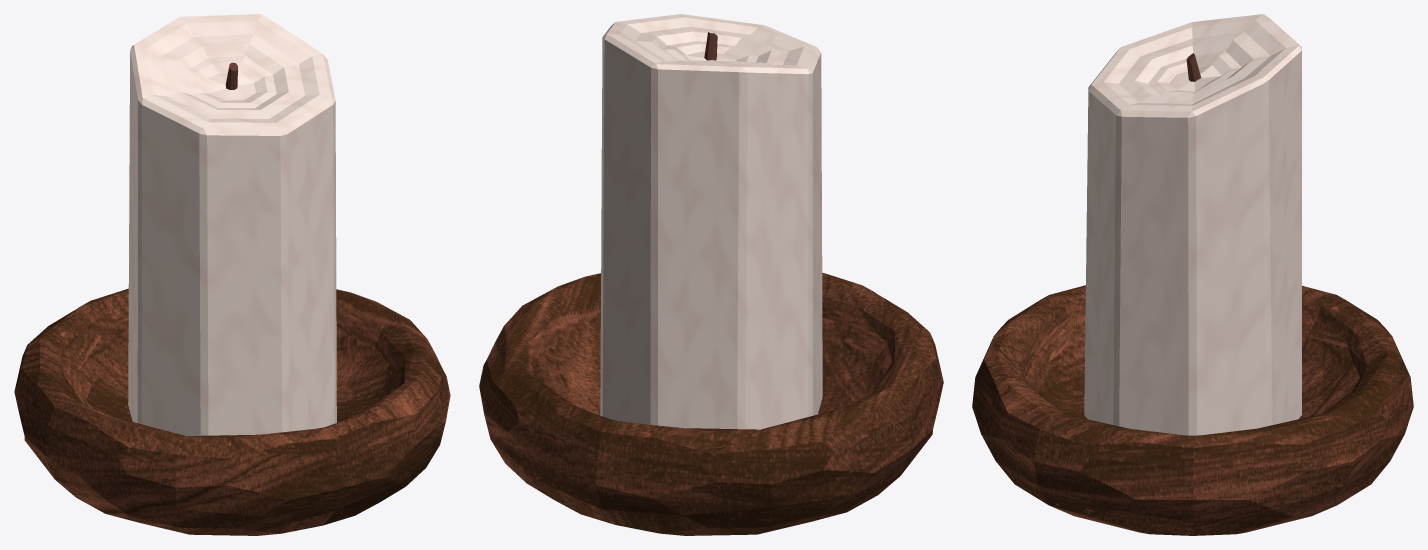
Rendered from Vela.glb.
3 views of the same model, side by side, from view 1: azimuth 30°, elevation 25°; view 2: azimuth 150°, elevation 25°; view 3: azimuth 270°, elevation 25° (orthographic). The views are drawn at different scales.
Parts seen in each view (by area): view 1: Cylinder, Cube.001; view 2: Cylinder, Cube.001; view 3: Cylinder, Cube.001.
Part boxes in pixels (bbox=[...]): Cylinder: bbox=[128, 14, 336, 435]; Cube.001: bbox=[14, 288, 450, 535]; Cylinder: bbox=[600, 14, 822, 429]; Cube.001: bbox=[479, 272, 943, 535]; Cylinder: bbox=[1084, 14, 1301, 435]; Cube.001: bbox=[972, 285, 1413, 535].
Size of the model in its own units: 1.15 by 1.28 by 1.15.
3 materials, 2 textured.
